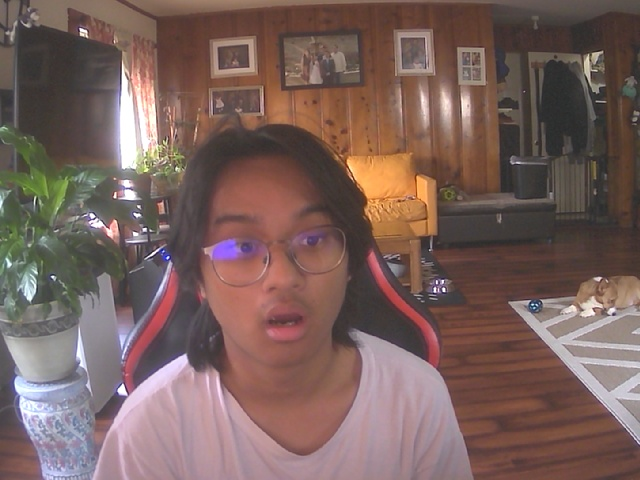fear: (195, 128, 357, 373)
